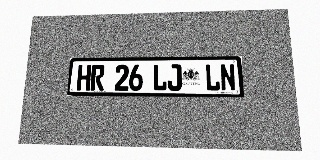2: (115, 65, 129, 91)
6: (129, 64, 143, 91)
H: (77, 65, 91, 91)
J: (167, 64, 182, 91)
L: (205, 64, 220, 91), (153, 64, 167, 91)
N: (220, 64, 236, 91)
R: (90, 65, 105, 91)
